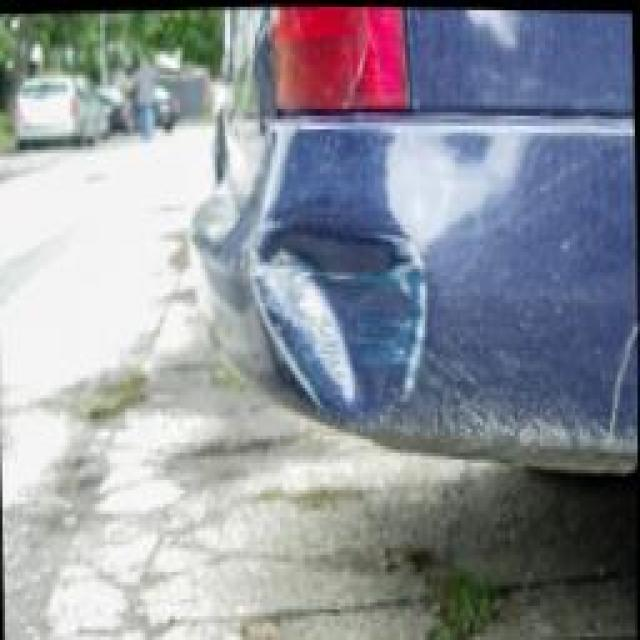Light: (210, 123, 446, 429)
